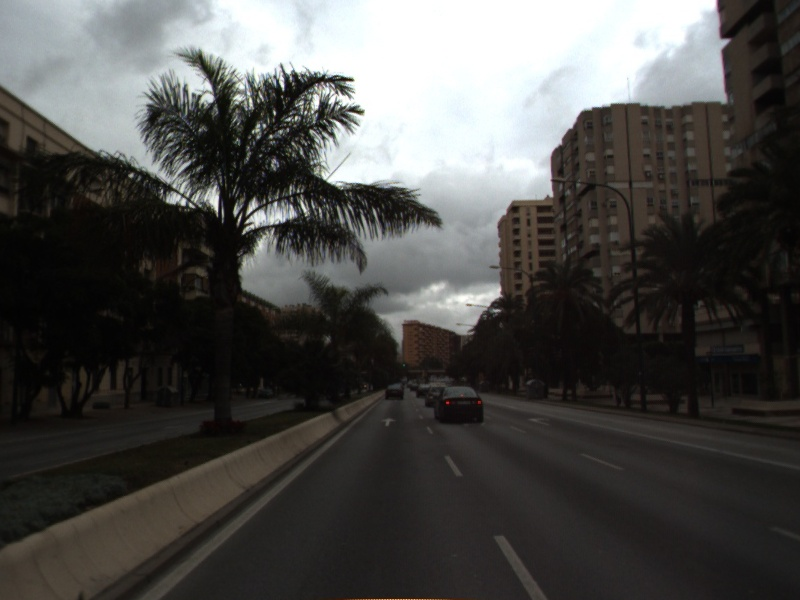RIGHT: (526, 415, 554, 428)
STRAIGHT: (378, 416, 399, 429)
